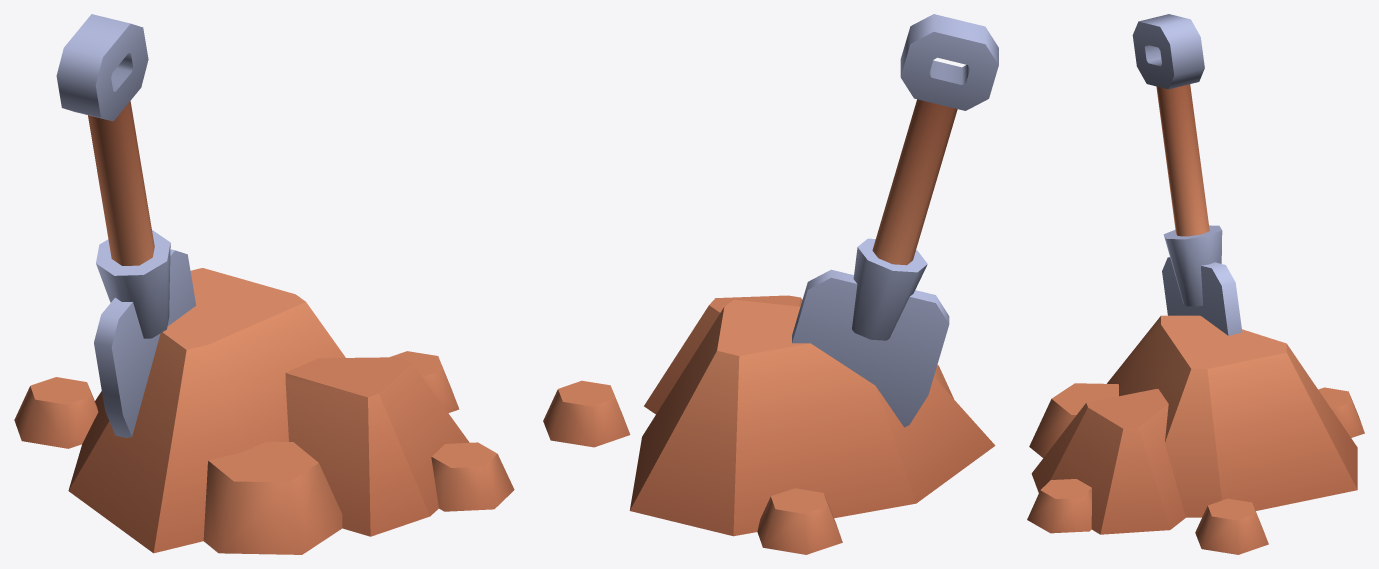
Rendered from shovel-dirt_lev2.glb.
3 views of the same model, side by side, from view 1: azimuth 30°, elevation 25°; view 2: azimuth 150°, elevation 25°; view 3: azimuth 270°, elevation 25° (orthographic). The views are drawn at different scales.
Parts seen in each view (by area): view 1: shovel-dirt_lev2; view 2: shovel-dirt_lev2; view 3: shovel-dirt_lev2.
Part boxes in pixels (x1,y1,x2,y2): shovel-dirt_lev2: (14, 14, 514, 554); shovel-dirt_lev2: (543, 14, 998, 554); shovel-dirt_lev2: (1027, 14, 1364, 554).
Bounding box in the file's own units: 0.6224 × 0.6608 × 0.5242.
1 material, 1 textured.
